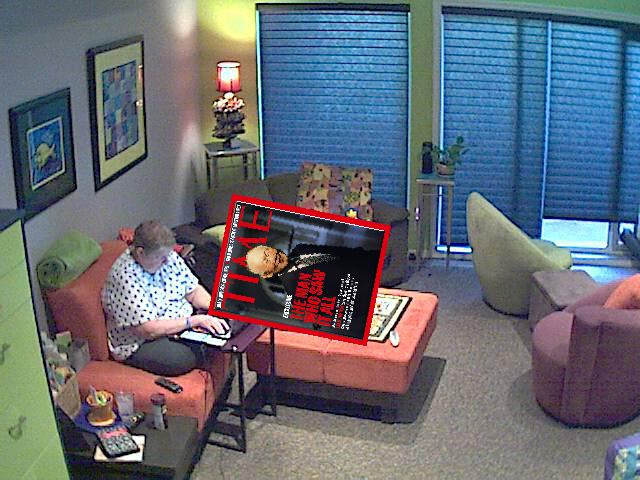times: (203, 190, 391, 348)
